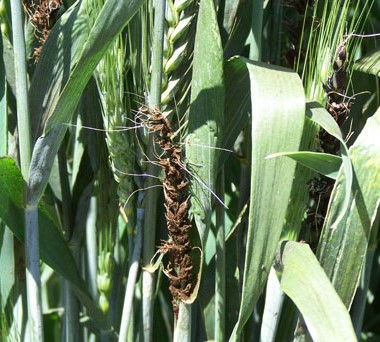Wheat Loose Smut: (142, 108, 205, 296)
